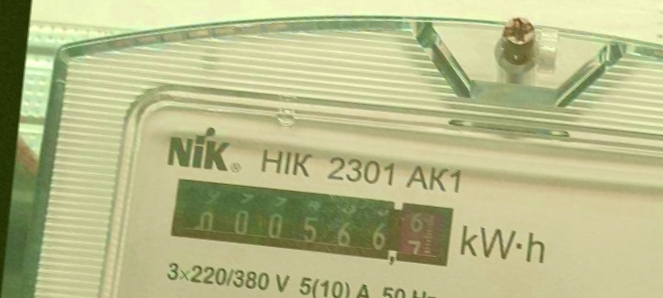0: (265, 208, 286, 238), (231, 203, 251, 234), (195, 204, 217, 229)
5: (300, 211, 320, 242)
6: (368, 216, 390, 249), (332, 216, 354, 245), (408, 207, 426, 234)
7: (405, 235, 423, 255)
9: (202, 183, 222, 205)
screen: (161, 167, 460, 273)
